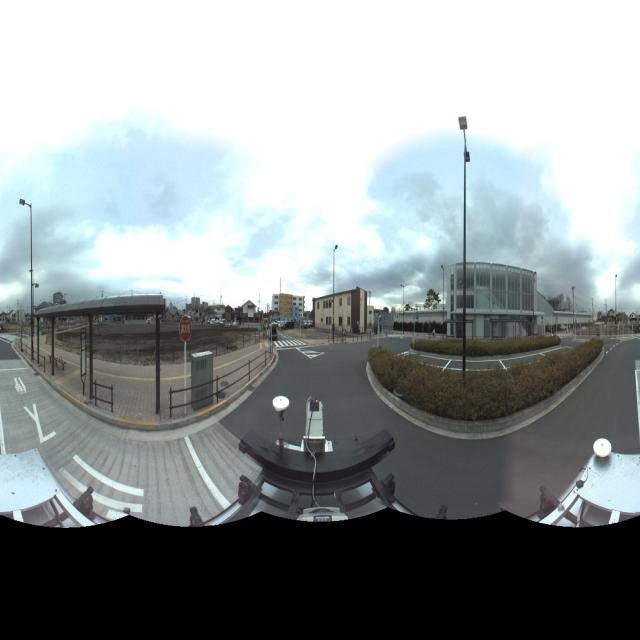b_1: (445, 261, 540, 350), (313, 284, 368, 339), (270, 293, 313, 332)
